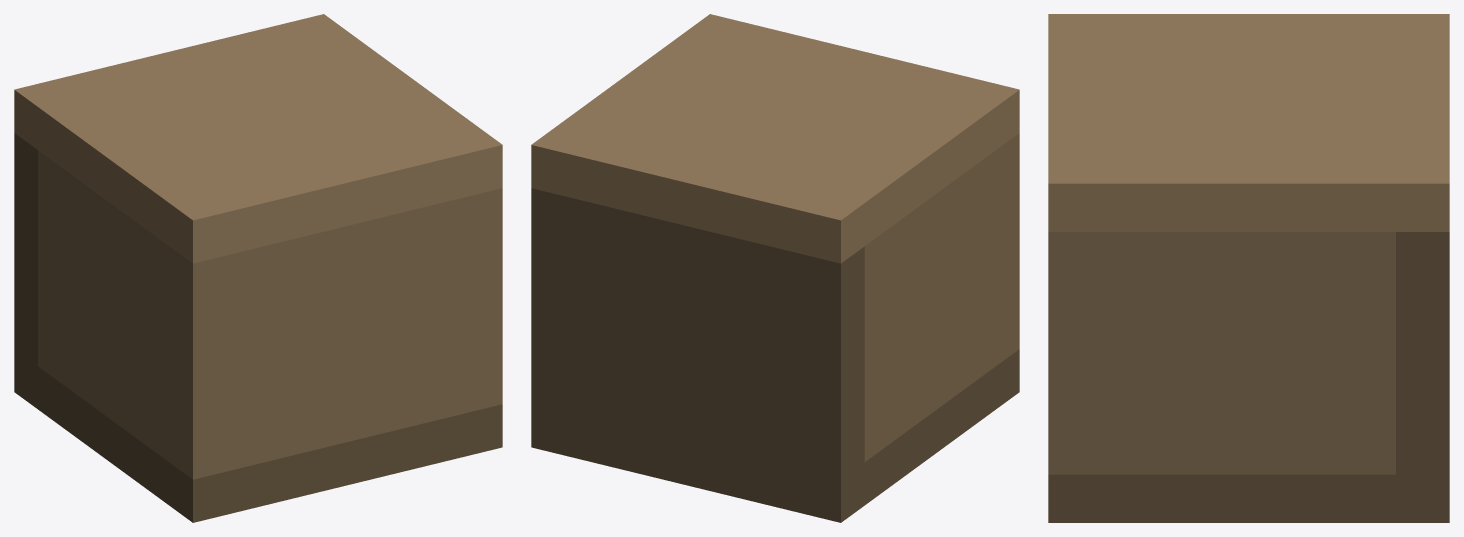
Rendered from estante_trofeos_roble_01.glb.
The picture shows the model from 3 angles, left to right: view 1: azimuth 30°, elevation 25°; view 2: azimuth 150°, elevation 25°; view 3: azimuth 270°, elevation 25°; orthographic projection. The views are drawn at different scales.
Visible parts, largest first — view 1: estante_trofeos_roble; view 2: estante_trofeos_roble; view 3: estante_trofeos_roble.
Boxes of the visible parts, bbox=[...] form: estante_trofeos_roble: bbox=[14, 14, 502, 522]; estante_trofeos_roble: bbox=[531, 14, 1019, 522]; estante_trofeos_roble: bbox=[1048, 14, 1449, 522].
Bounding box in the file's own units: 1 × 0.9333 × 1.
